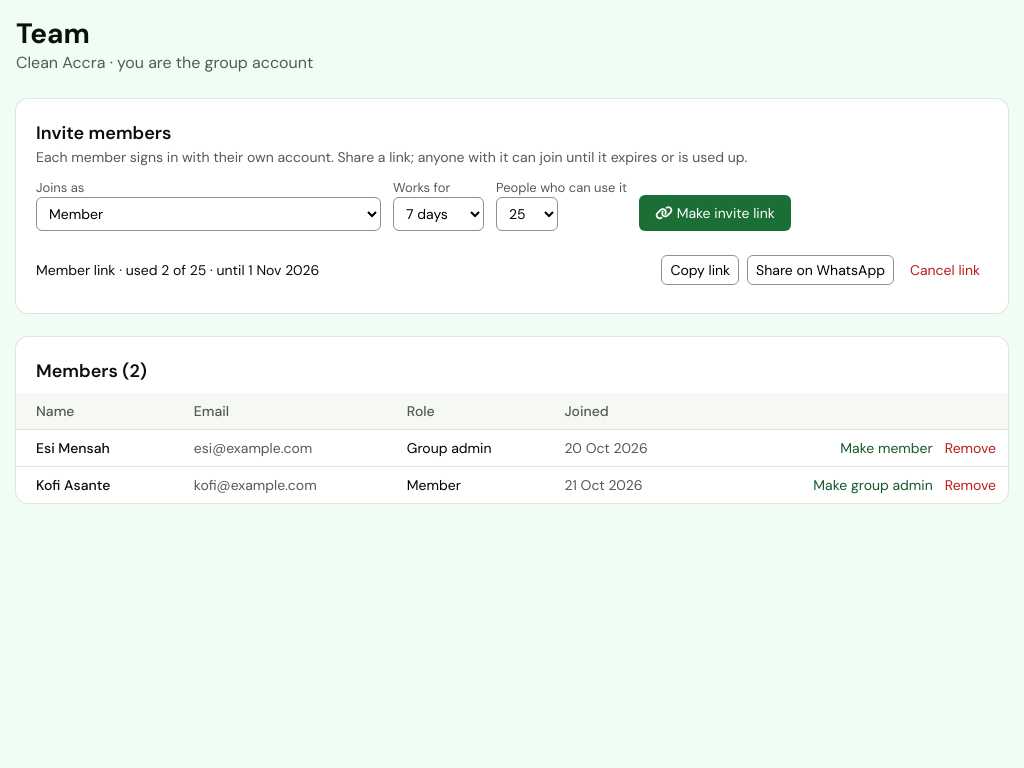
shows the database’s refusal
The width and height of the screenshot is (1024, 768).
Click the button "Make invite link" at (715, 213), box [639,195,791,231]
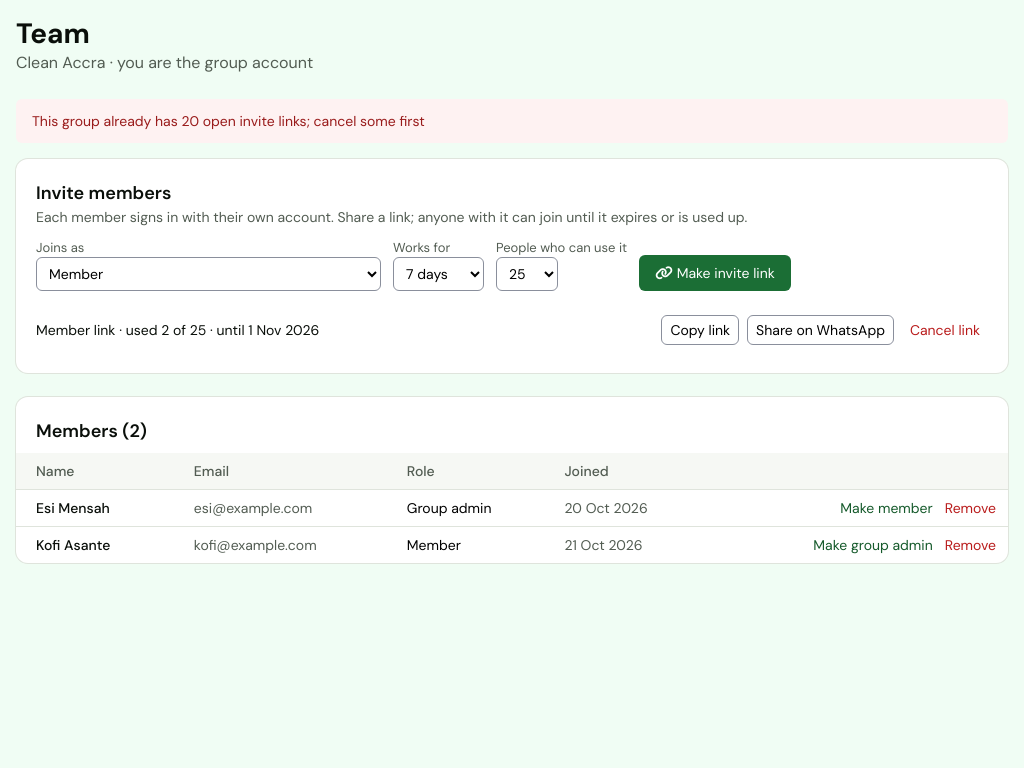
Result: the message shows "20 open invite links" at [32,112,425,130]
